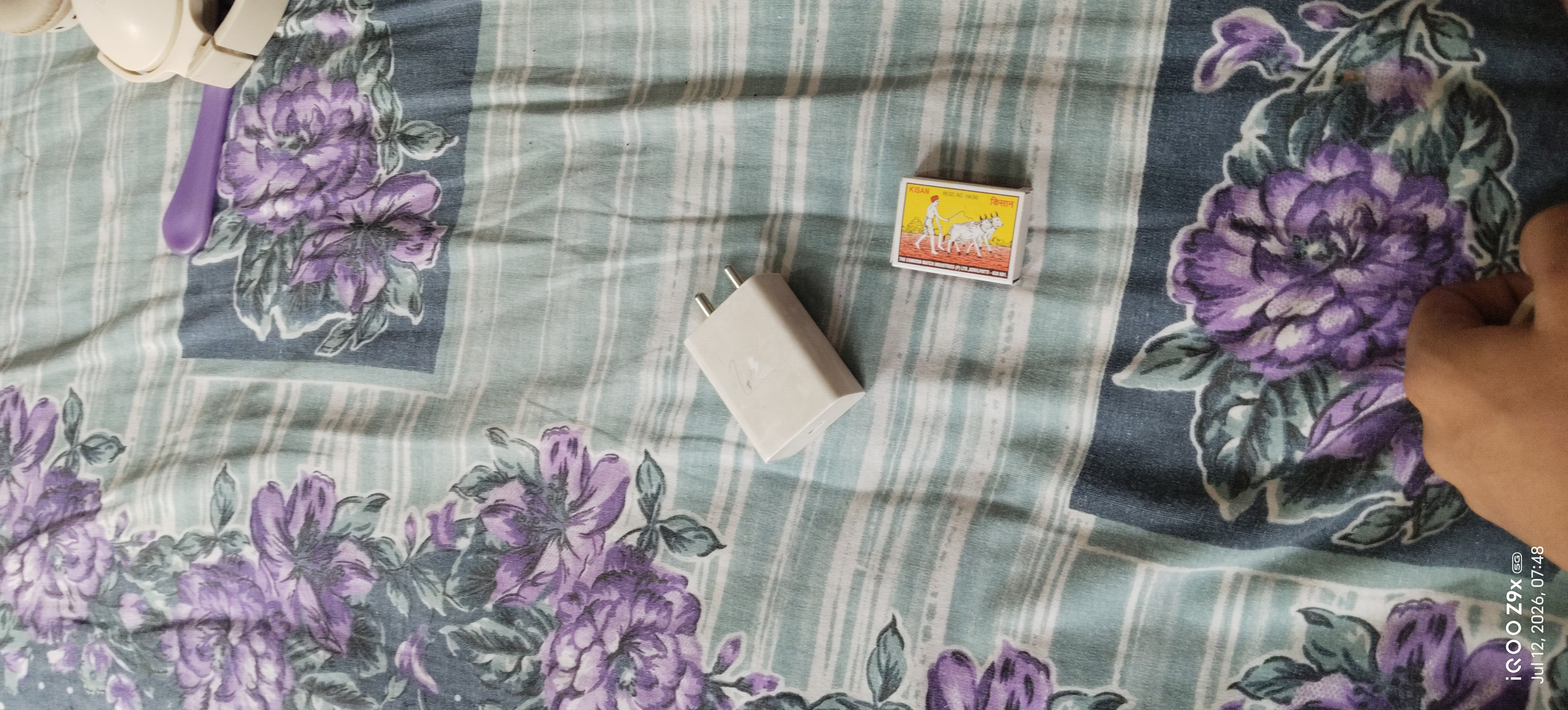charger: (644, 232, 883, 478)
matchbox: (883, 135, 1049, 315)
